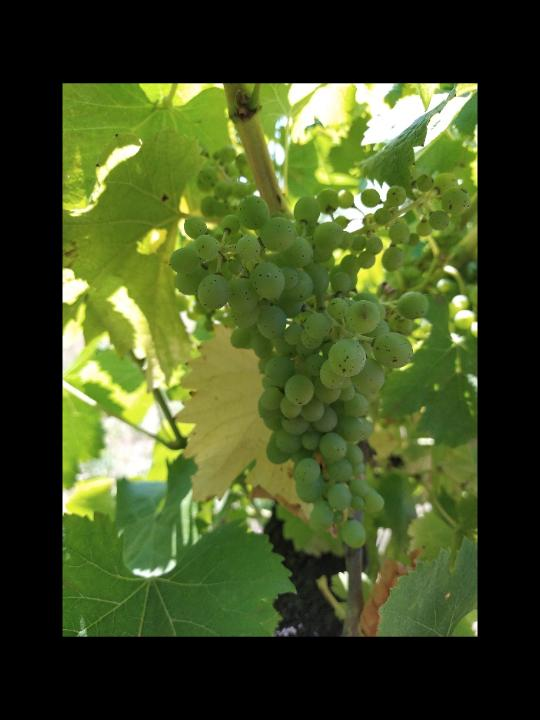grape: (168, 169, 471, 552)
